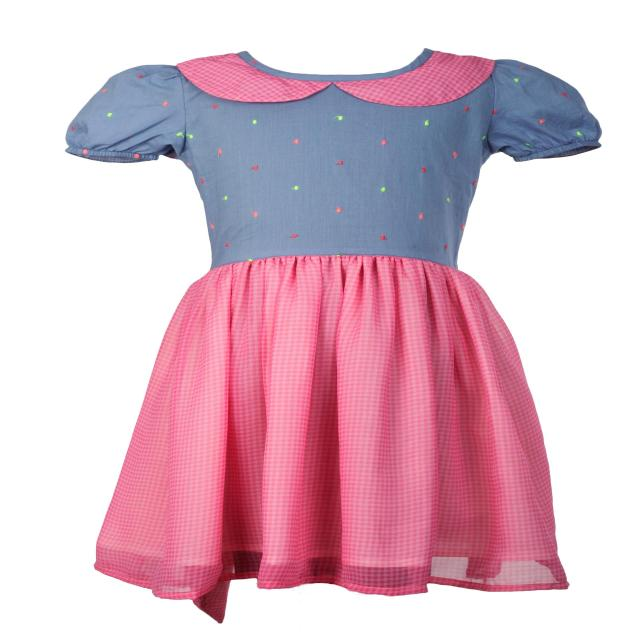Dress: (54, 44, 608, 605)
